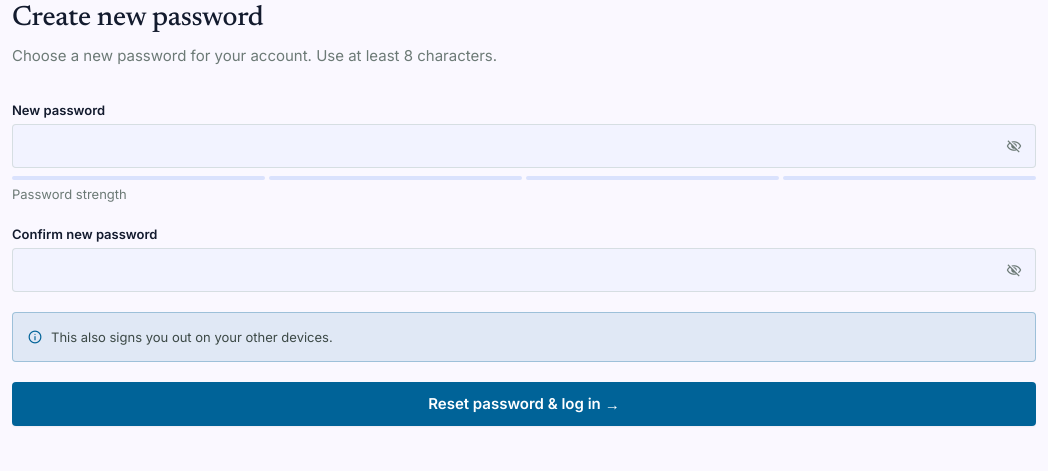
Test case: ResetPasswordForm: the form › rejects a short password in the browser
This screenshot has width=1048, height=471.
Type "short" into the password field labelled "New password". click: [524, 146]
box: [12, 124, 1036, 168]
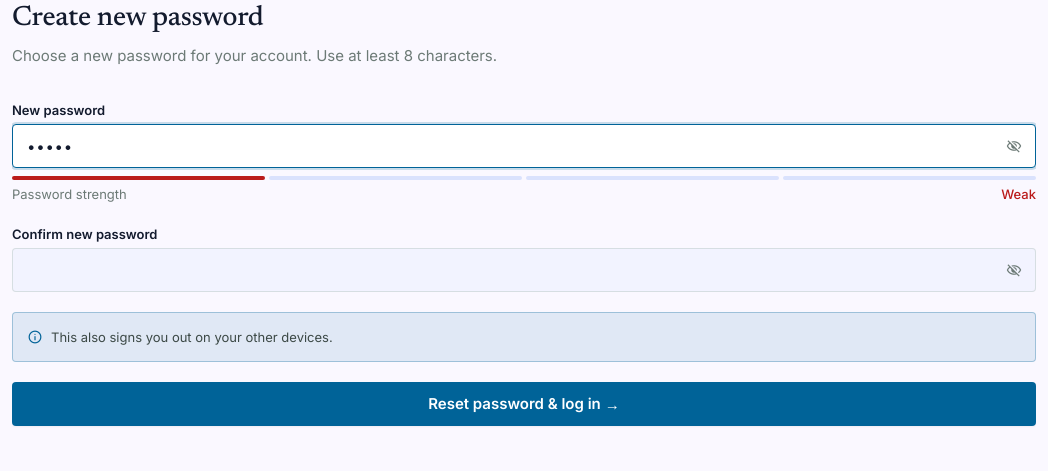
Type "short" into the password field labelled "Confirm new password". click: [524, 270]
box: [12, 248, 1036, 292]
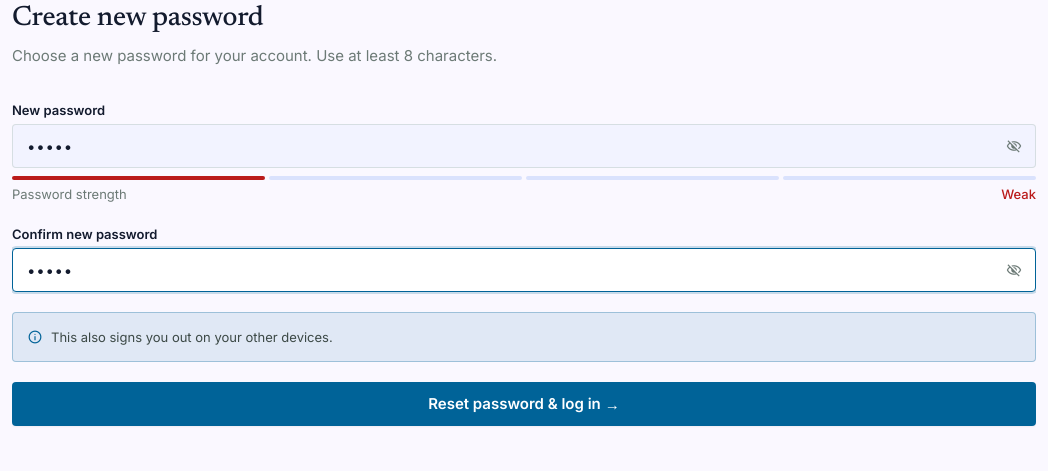
Click the button "Reset password & log in →". click: [524, 404]
box: [12, 382, 1036, 426]
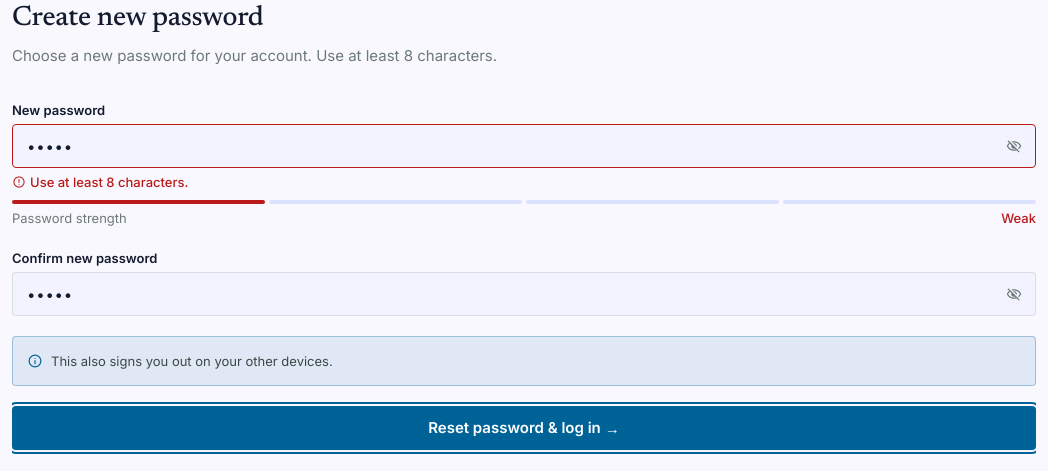
Now the text "Use at least 8 characters." is shown, box [12, 174, 188, 190]
